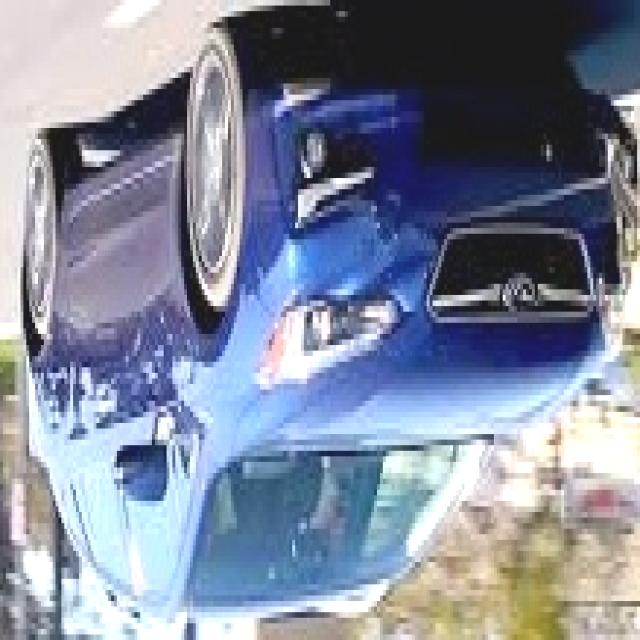blue: (0, 57, 632, 624)
